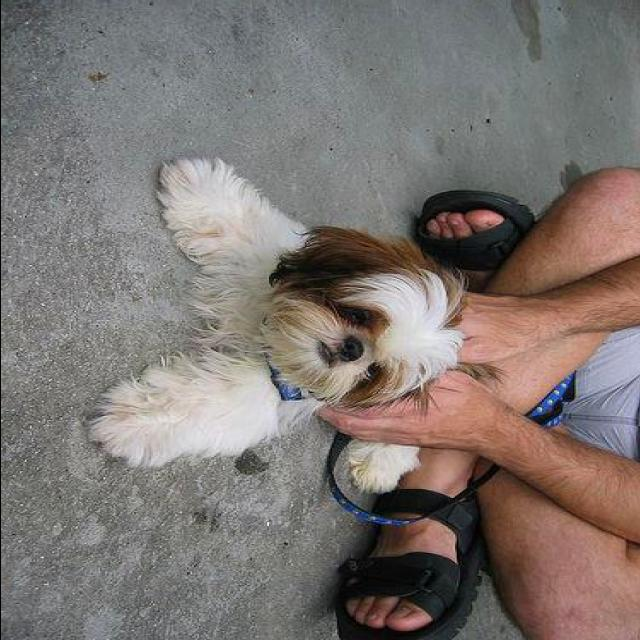shih_tzu: (82, 155, 506, 498)
